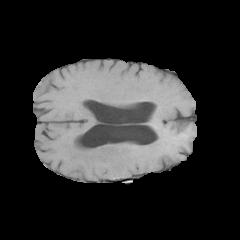glioma: (58, 134, 166, 174)
